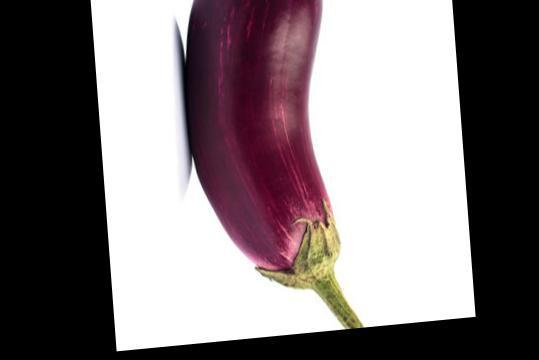eggplant: (166, 0, 378, 332)
